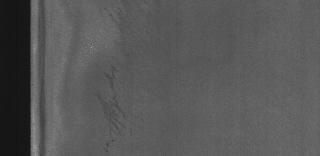water spot: (92, 12, 154, 152)
